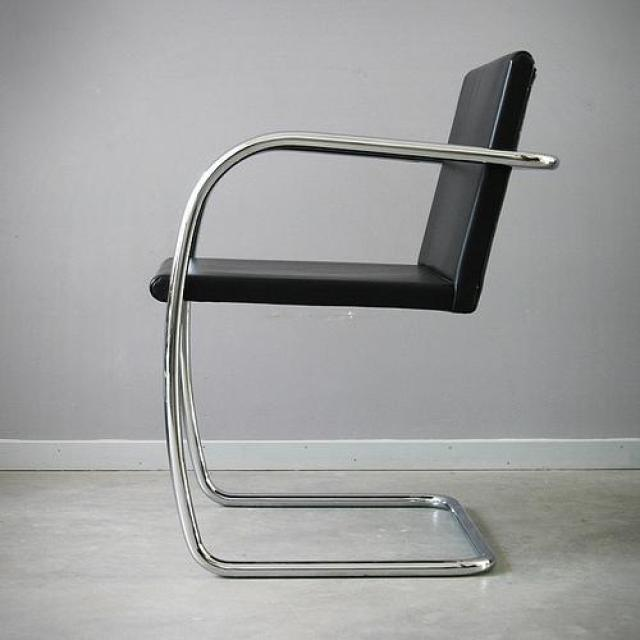chair: (147, 49, 558, 578)
